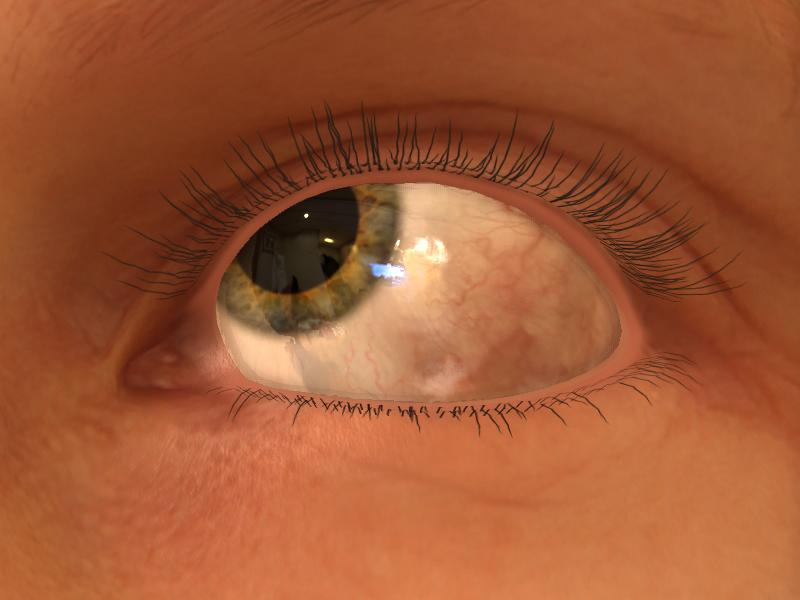eye: (218, 184, 405, 334)
